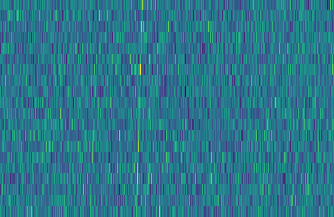signal: (130, 0, 145, 217)
